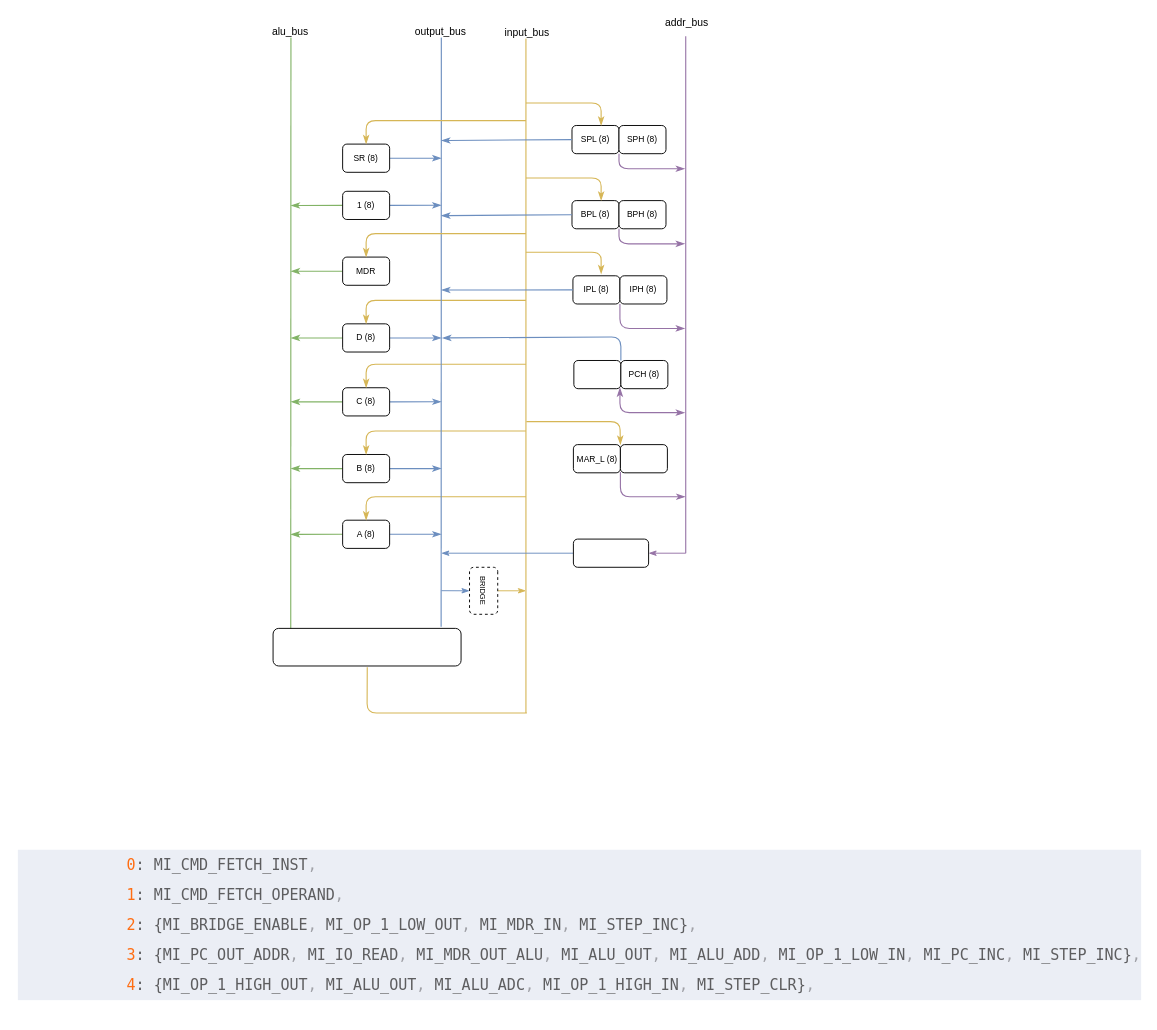
Some shapes in this 1157 by 1030 pixel diagram are drawn without their labels. The centre of each missing label's shape, as x and y in pixels:
ALU: (x=366, y=646)
MAR_H (8): (x=643, y=458)
Memory: (x=610, y=552)
PCL (8): (x=597, y=374)
